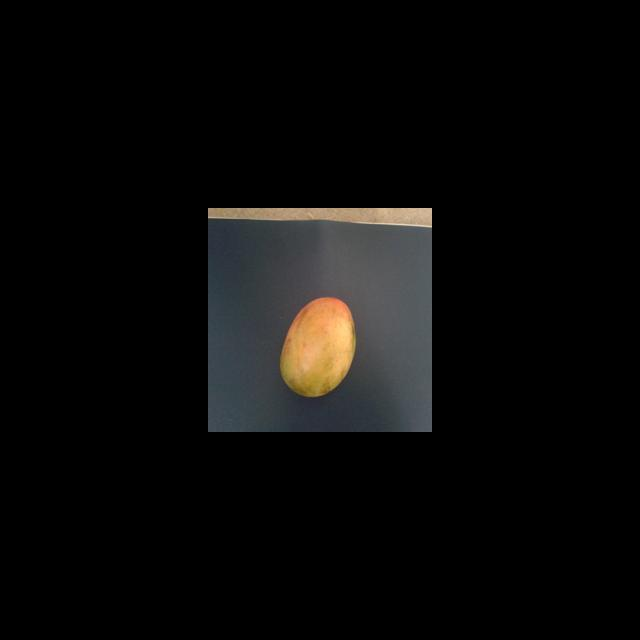Mango: (279, 296, 356, 397)
